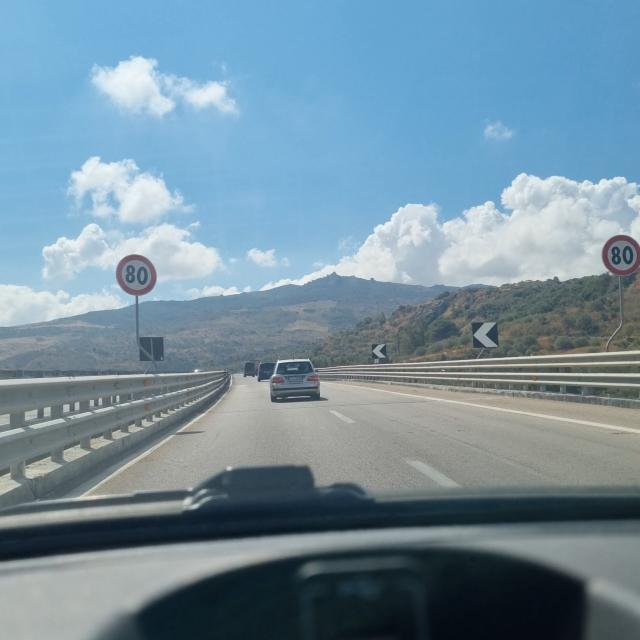forb_speed_over_80: (115, 254, 158, 299), (602, 235, 639, 275)
